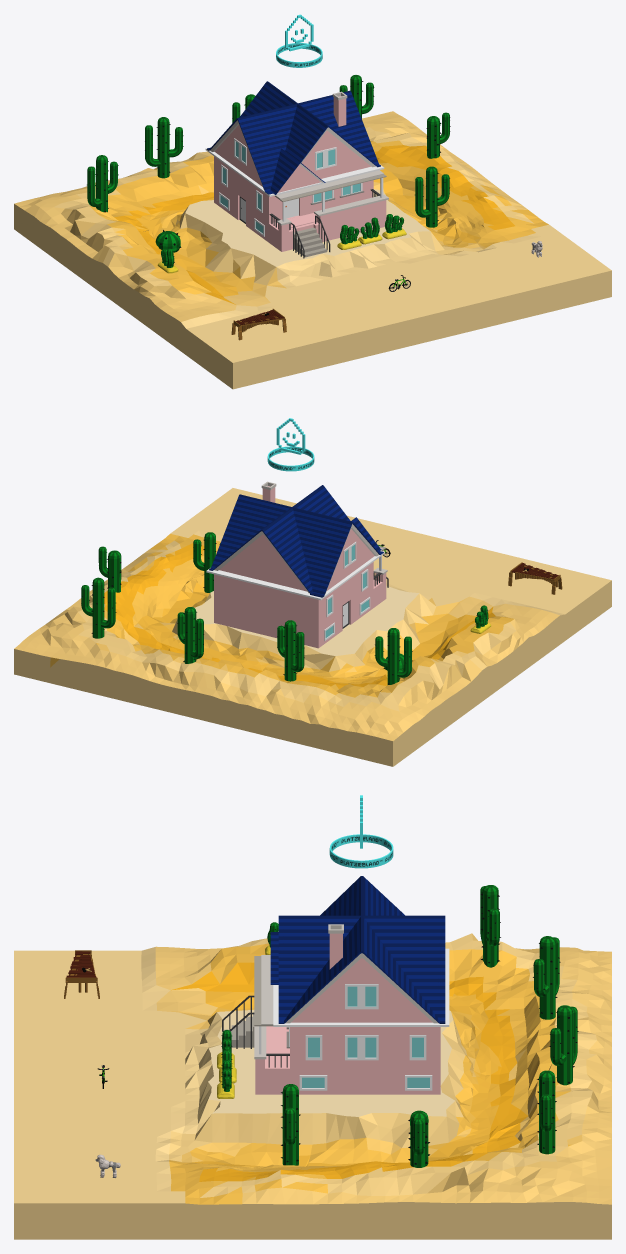
3 renders of one model, top to bottom at view 1: azimuth 30°, elevation 25°; view 2: azimuth 150°, elevation 25°; view 3: azimuth 270°, elevation 25°, orthographic. The views are drawn at different scales.
Visible parts, largest first — view 1: Cube.001, Cube.313, Cylinder.044, Cylinder.037, Cylinder.045, TYPE_PREMIUM, Cylinder.038, OBJRANDOM_MARIMBA, Cylinder.042; view 2: Cube.001, Cube.313, Cylinder.042, Cylinder.045, Cylinder.044, Cylinder.043, TYPE_PREMIUM, Cylinder.037, Cylinder.038, OBJRANDOM_MARIMBA; view 3: Cube.001, Cube.313, Cylinder.044, Cylinder.043, Cylinder.045, Cylinder.042, Cylinder.037, TYPE_PREMIUM, Cylinder.038, OBJRANDOM_MARIMBA.
Part boxes in pixels (bbox=[...]): Cube.001: bbox=[14, 111, 611, 389]; Cube.313: bbox=[205, 81, 388, 258]; Cylinder.044: bbox=[145, 117, 183, 178]; Cylinder.037: bbox=[415, 166, 449, 227]; Cylinder.045: bbox=[87, 155, 118, 212]; TYPE_PREMIUM: bbox=[276, 14, 322, 67]; Cylinder.038: bbox=[426, 112, 450, 158]; OBJRANDOM_MARIMBA: bbox=[231, 308, 286, 340]; Cylinder.042: bbox=[339, 75, 374, 118]; Cube.001: bbox=[14, 488, 611, 766]; Cube.313: bbox=[206, 481, 388, 648]; Cylinder.042: bbox=[81, 577, 116, 638]; Cylinder.045: bbox=[374, 628, 412, 684]; Cylinder.044: bbox=[277, 620, 304, 681]; Cylinder.043: bbox=[177, 607, 203, 663]; TYPE_PREMIUM: bbox=[267, 418, 314, 471]; Cylinder.037: bbox=[193, 532, 220, 592]; Cylinder.038: bbox=[98, 546, 121, 592]; OBJRANDOM_MARIMBA: bbox=[508, 562, 562, 594]; Cube.001: bbox=[14, 933, 611, 1239]; Cube.313: bbox=[222, 876, 449, 1094]; Cylinder.044: bbox=[533, 936, 560, 1019]; Cylinder.043: bbox=[549, 1005, 578, 1085]; Cylinder.045: bbox=[480, 885, 500, 967]; Cylinder.042: bbox=[537, 1070, 556, 1154]; Cylinder.037: bbox=[281, 1084, 300, 1165]; TYPE_PREMIUM: bbox=[329, 795, 393, 868]; Cylinder.038: bbox=[408, 1110, 429, 1167]; OBJRANDOM_MARIMBA: bbox=[64, 950, 99, 998].
Bounding box in the file's own units: 4002 × 2445 × 4001.
33 materials, 3 textured.
